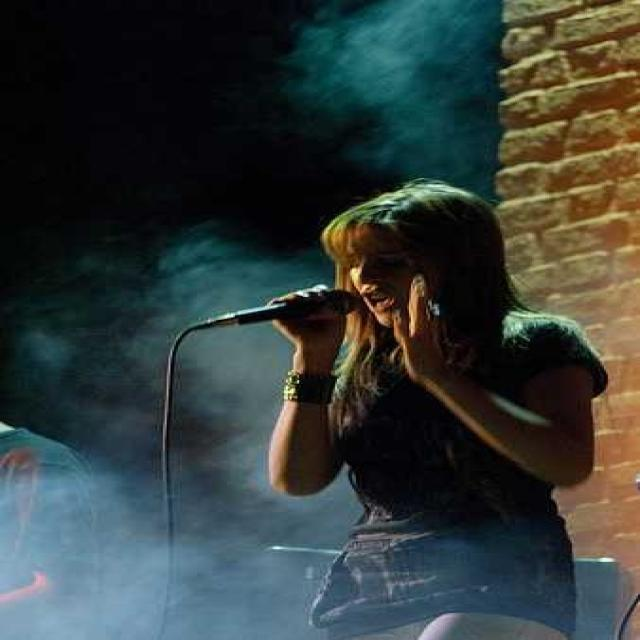microphone: (203, 286, 353, 330)
